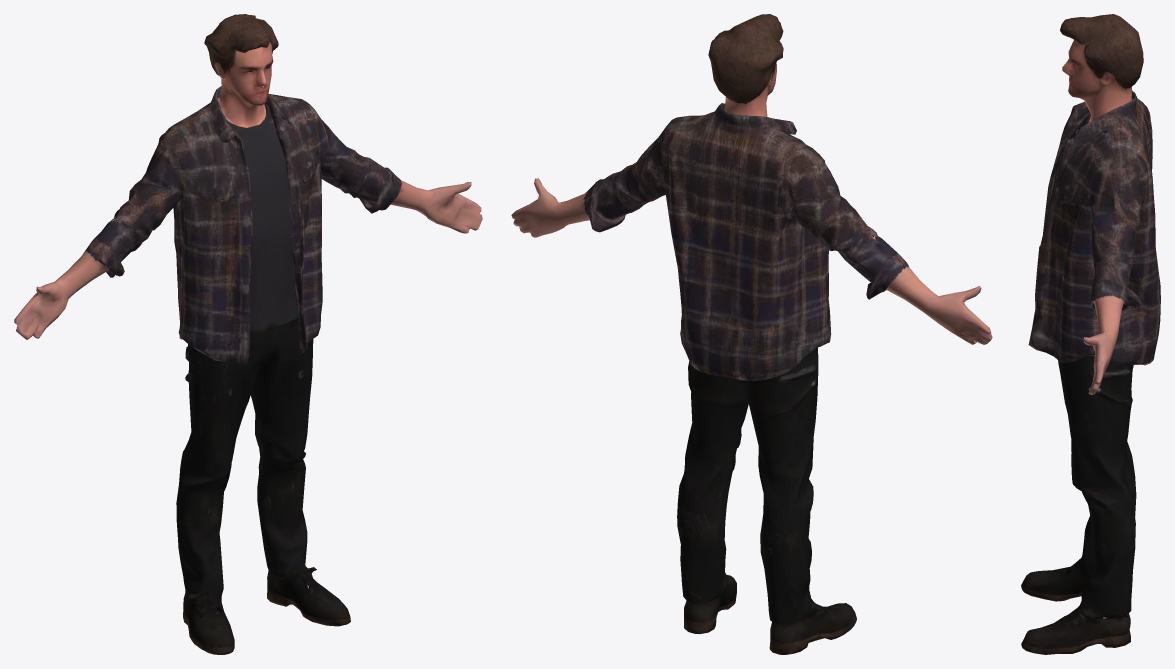
The model's file is fan-m-shoulders-s1.glb.
The picture shows the model from 3 angles, left to right: view 1: azimuth 30°, elevation 25°; view 2: azimuth 150°, elevation 25°; view 3: azimuth 270°, elevation 25°; orthographic projection. The views are drawn at different scales.
Visible parts, largest first — view 1: geometry_0; view 2: geometry_0; view 3: geometry_0.
Boxes of the visible parts, x1,y1,x2,y2 form: geometry_0: (14, 14, 482, 654); geometry_0: (511, 14, 992, 654); geometry_0: (1021, 14, 1160, 654).
Bounding box in the file's own units: 0.8229 × 1 × 0.2109.
1 material, 1 textured.
